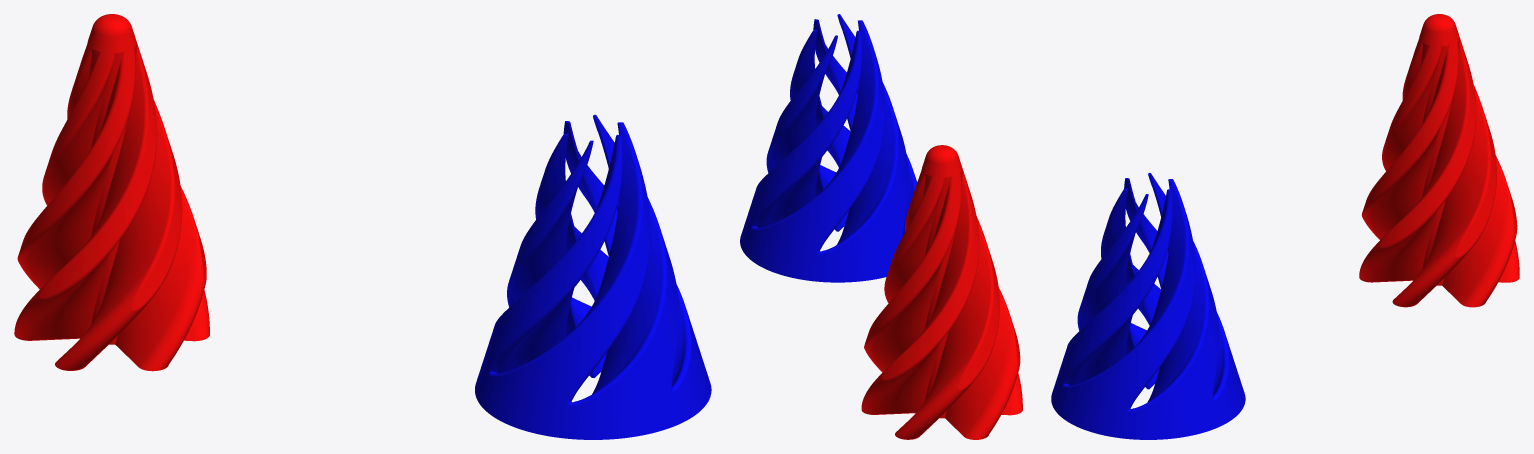
File: spiral-cone.glb
3 renders of one model, left to right at view 1: azimuth 30°, elevation 25°; view 2: azimuth 150°, elevation 25°; view 3: azimuth 270°, elevation 25°, orthographic. The views are drawn at different scales.
Visible parts, largest first — view 1: spiral_fidget - spiral_outer_v3.stl_fil4, spiral_fidget - spiral_inner_v3.stl_fil3; view 2: spiral_fidget - spiral_inner_v3.stl_fil3, spiral_fidget - spiral_outer_v3.stl_fil4; view 3: spiral_fidget - spiral_outer_v3.stl_fil4, spiral_fidget - spiral_inner_v3.stl_fil3.
Boxes of the visible parts, bbox=[...] form: spiral_fidget - spiral_outer_v3.stl_fil4: bbox=[475, 114, 711, 439]; spiral_fidget - spiral_inner_v3.stl_fil3: bbox=[14, 14, 209, 371]; spiral_fidget - spiral_inner_v3.stl_fil3: bbox=[861, 145, 1022, 439]; spiral_fidget - spiral_outer_v3.stl_fil4: bbox=[740, 14, 917, 282]; spiral_fidget - spiral_outer_v3.stl_fil4: bbox=[1051, 173, 1245, 439]; spiral_fidget - spiral_inner_v3.stl_fil3: bbox=[1359, 14, 1519, 307].
Bounding box in the file's own units: 0.1377 × 0.085 × 0.1386.
